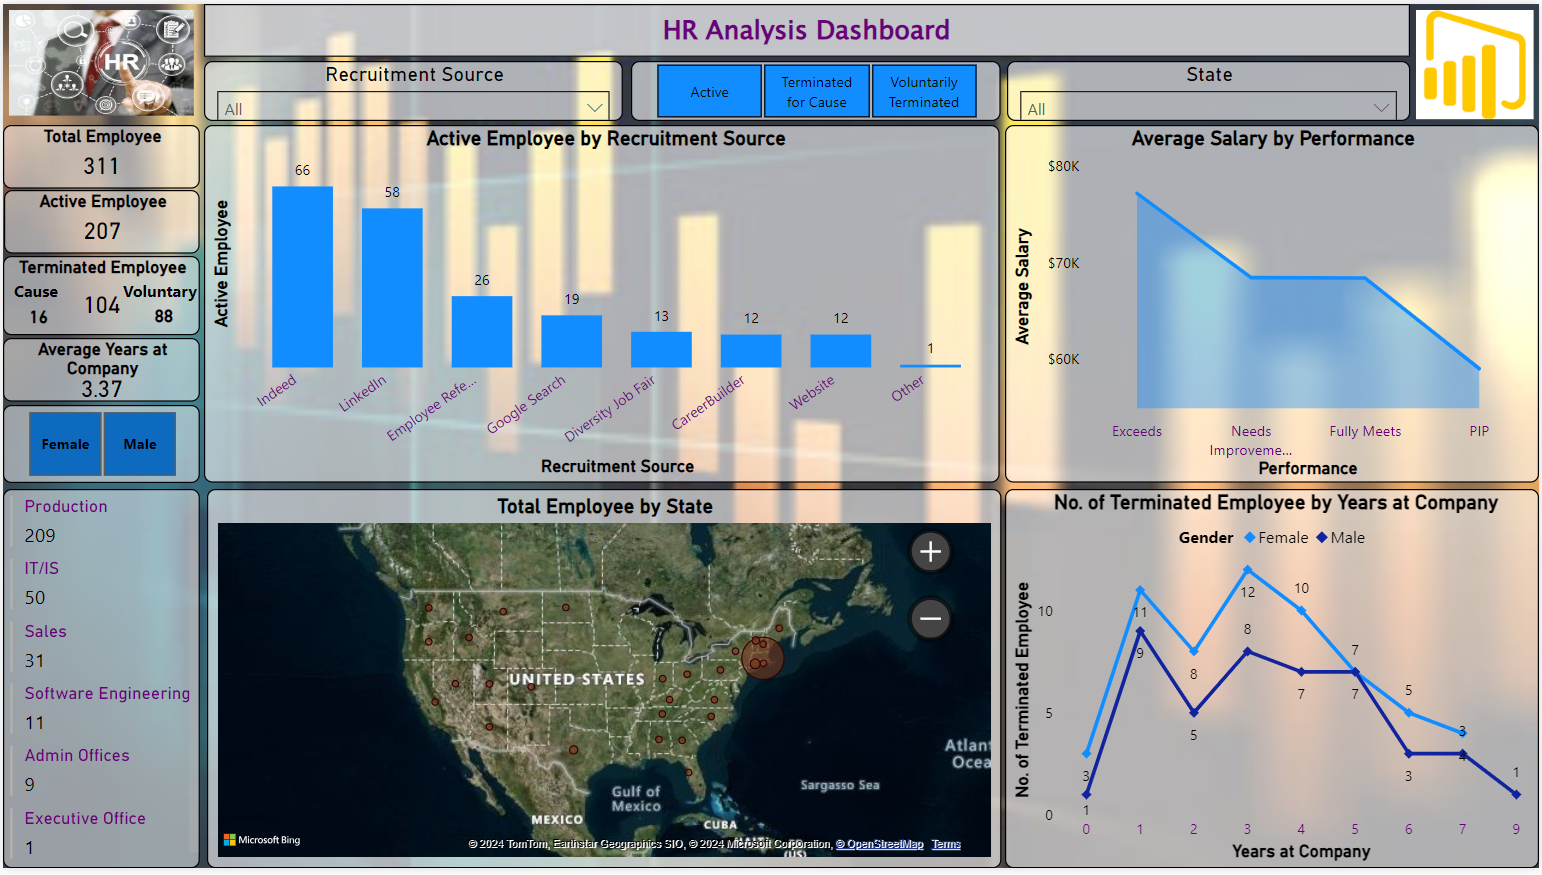

This screenshot's page, from the dashboard's own definition file:
{"tool":"powerbi","page":{"name":"Page 2","canvas":[1280,720],"ordinal":1},"visuals":[{"type":"lineChart","title":"Average Salary by Performance","fields":{"Category":["HRDataset_v14(1).PerformanceScore"],"Y":["Avg(HRDataset_v14(1).Salary)"]},"box":[834.9,100.5,445.3,298.1],"z":0},{"type":"card","title":"Average Years at Company","fields":{"Values":["Avg(HRDataset_v14(1).YearDifference1)"]},"box":[0,278,164.3,53],"z":1000},{"type":"slicer","fields":{"Values":["HRDataset_v14(1).Sex"]},"box":[0,334,164.3,64.6],"z":2000},{"type":"multiRowCard","fields":{"Values":["HRDataset_v14(1).Department","CountNonNull(HRDataset_v14(1).EmpID)"]},"box":[0,404,164.3,316],"z":3000},{"type":"card","title":"Total Employee","fields":{"Values":["HRDataset_v14(1).TotalEmp"]},"box":[0,100.5,164.3,53],"z":4000},{"type":"card","title":"Terminated Employee","fields":{"Values":["HRDataset_v14(1).Terminated"]},"box":[0,210.1,164.3,66],"z":5000},{"type":"card","title":"Active Employee","fields":{"Values":["HRDataset_v14(1).Active"]},"box":[0.9,155.3,163.4,53],"z":6000},{"type":"textbox","box":[167.9,0,1004.6,44],"z":7000},{"type":"image","box":[0,0,164.3,97.9],"z":8000},{"type":"image","box":[1172.5,0,107.7,100.5],"z":9000},{"type":"slicer","title":"Recruitment Source","fields":{"Values":["HRDataset_v14(1).RecruitmentSource"]},"box":[167.9,47.6,349.2,50.3],"z":10000},{"type":"slicer","title":"State","fields":{"Values":["HRDataset_v14(1).State"]},"box":[836.7,47.6,335.8,50.3],"z":11000},{"type":"card","fields":{"Values":["HRDataset_v14(1).TerminatedForCause"]},"box":[7.2,245,44,33.2],"z":12000},{"type":"card","fields":{"Values":["HRDataset_v14(1).VoluntaryTermination"]},"box":[112.2,245,43.1,32.3],"z":13000},{"type":"textbox","box":[100,230,70,19.8],"z":14000},{"type":"textbox","box":[9,230,45,18.9],"z":15000},{"type":"columnChart","fields":{"Category":["HRDataset_v14(1).RecruitmentSource"],"Y":["HRDataset_v14(1).Active"]},"box":[167.9,100.5,663.4,298.1],"z":16000},{"type":"map","fields":{"Category":["Full_StateName.Sate_FullName"],"Size":["HRDataset_v14(1).TotalEmp"]},"box":[169.7,404,661.6,316],"z":17000},{"type":"slicer","fields":{"Values":["HRDataset_v14(1).EmploymentStatus"]},"box":[523.4,47.6,307.9,50.3],"z":18000},{"type":"lineChart","title":"No. of Terminated Employee by Years at Company","fields":{"Series":["HRDataset_v14(1).Sex"],"Category":["HRDataset_v14(1).YearDifference1"],"Y":["HRDataset_v14(1).Terminated"]},"box":[834.9,404,445.1,316],"z":19000}]}

Visuals, with their boxes in screenshot pixels (x1, y1, x2, y2), scaled from the page's 1280x720 canvas onto the 1542x875 screenshot:
"Average Salary by Performance" lineChart: (x1=1006, y1=122, x2=1541, y2=484)
"Average Years at Company" card: (x1=0, y1=338, x2=198, y2=402)
slicer - HRDataset_v14(1).Sex: (x1=0, y1=406, x2=198, y2=484)
multiRowCard - HRDataset_v14(1).Department x CountNonNull(HRDataset_v14(1).EmpID): (x1=0, y1=491, x2=198, y2=874)
"Total Employee" card: (x1=0, y1=122, x2=198, y2=187)
"Terminated Employee" card: (x1=0, y1=255, x2=198, y2=336)
"Active Employee" card: (x1=1, y1=189, x2=198, y2=253)
textbox: (x1=202, y1=0, x2=1412, y2=53)
image: (x1=0, y1=0, x2=198, y2=119)
image: (x1=1412, y1=0, x2=1541, y2=122)
"Recruitment Source" slicer: (x1=202, y1=58, x2=623, y2=119)
"State" slicer: (x1=1008, y1=58, x2=1412, y2=119)
card - HRDataset_v14(1).TerminatedForCause: (x1=9, y1=298, x2=62, y2=338)
card - HRDataset_v14(1).VoluntaryTermination: (x1=135, y1=298, x2=187, y2=337)
textbox: (x1=120, y1=280, x2=205, y2=304)
textbox: (x1=11, y1=280, x2=65, y2=302)
columnChart - HRDataset_v14(1).RecruitmentSource x HRDataset_v14(1).Active: (x1=202, y1=122, x2=1001, y2=484)
map - Full_StateName.Sate_FullName x HRDataset_v14(1).TotalEmp: (x1=204, y1=491, x2=1001, y2=874)
slicer - HRDataset_v14(1).EmploymentStatus: (x1=631, y1=58, x2=1001, y2=119)
"No. of Terminated Employee by Years at Company" lineChart: (x1=1006, y1=491, x2=1541, y2=874)
